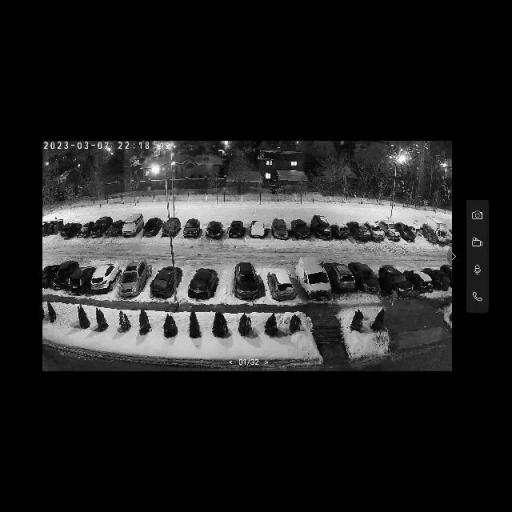busy: (375, 262, 423, 300), (296, 259, 338, 301), (114, 262, 152, 300), (183, 267, 222, 304), (226, 264, 264, 301), (144, 266, 182, 302), (82, 264, 122, 296), (324, 260, 358, 297), (266, 269, 300, 304), (414, 266, 450, 298), (347, 262, 379, 294), (359, 219, 396, 242), (348, 220, 383, 242), (116, 214, 148, 238), (48, 261, 72, 293), (82, 216, 116, 238), (418, 222, 449, 246), (308, 214, 335, 240), (392, 220, 421, 242), (377, 220, 404, 241), (332, 220, 356, 241), (60, 220, 86, 238), (144, 216, 166, 237), (182, 218, 204, 238), (246, 220, 266, 240), (292, 218, 310, 240), (161, 217, 180, 237), (272, 219, 290, 240), (206, 220, 224, 241), (103, 217, 121, 237), (227, 220, 245, 239)
